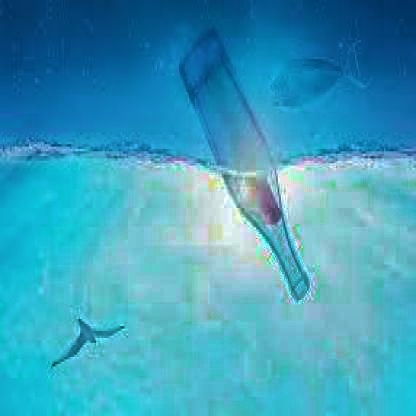gbottle: (180, 28, 310, 305)
